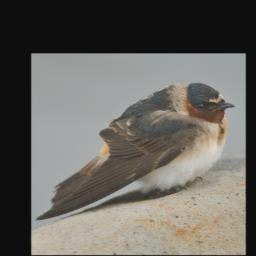Swallow: (34, 82, 235, 222)
